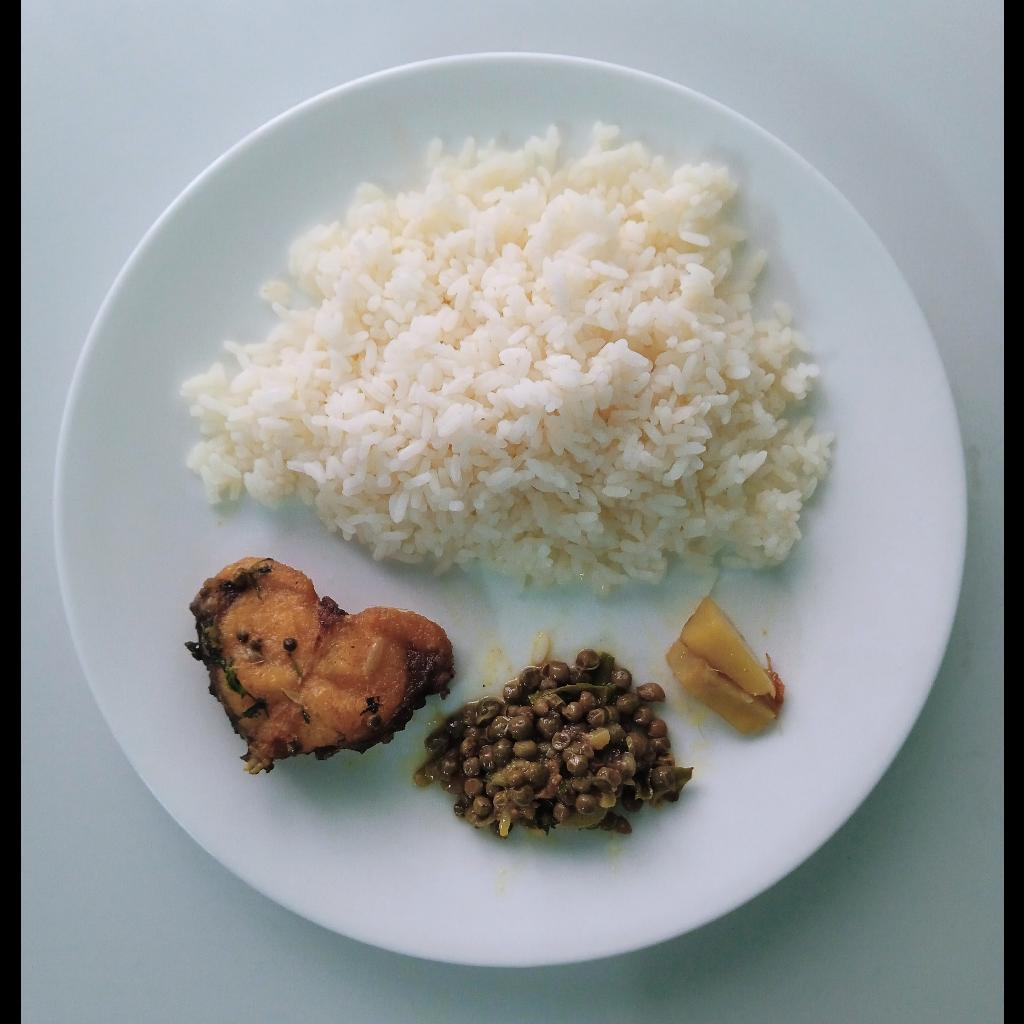fish: (198, 554, 455, 769)
green-pea: (432, 653, 667, 839)
potato: (663, 597, 782, 741)
rice: (184, 146, 827, 581)
